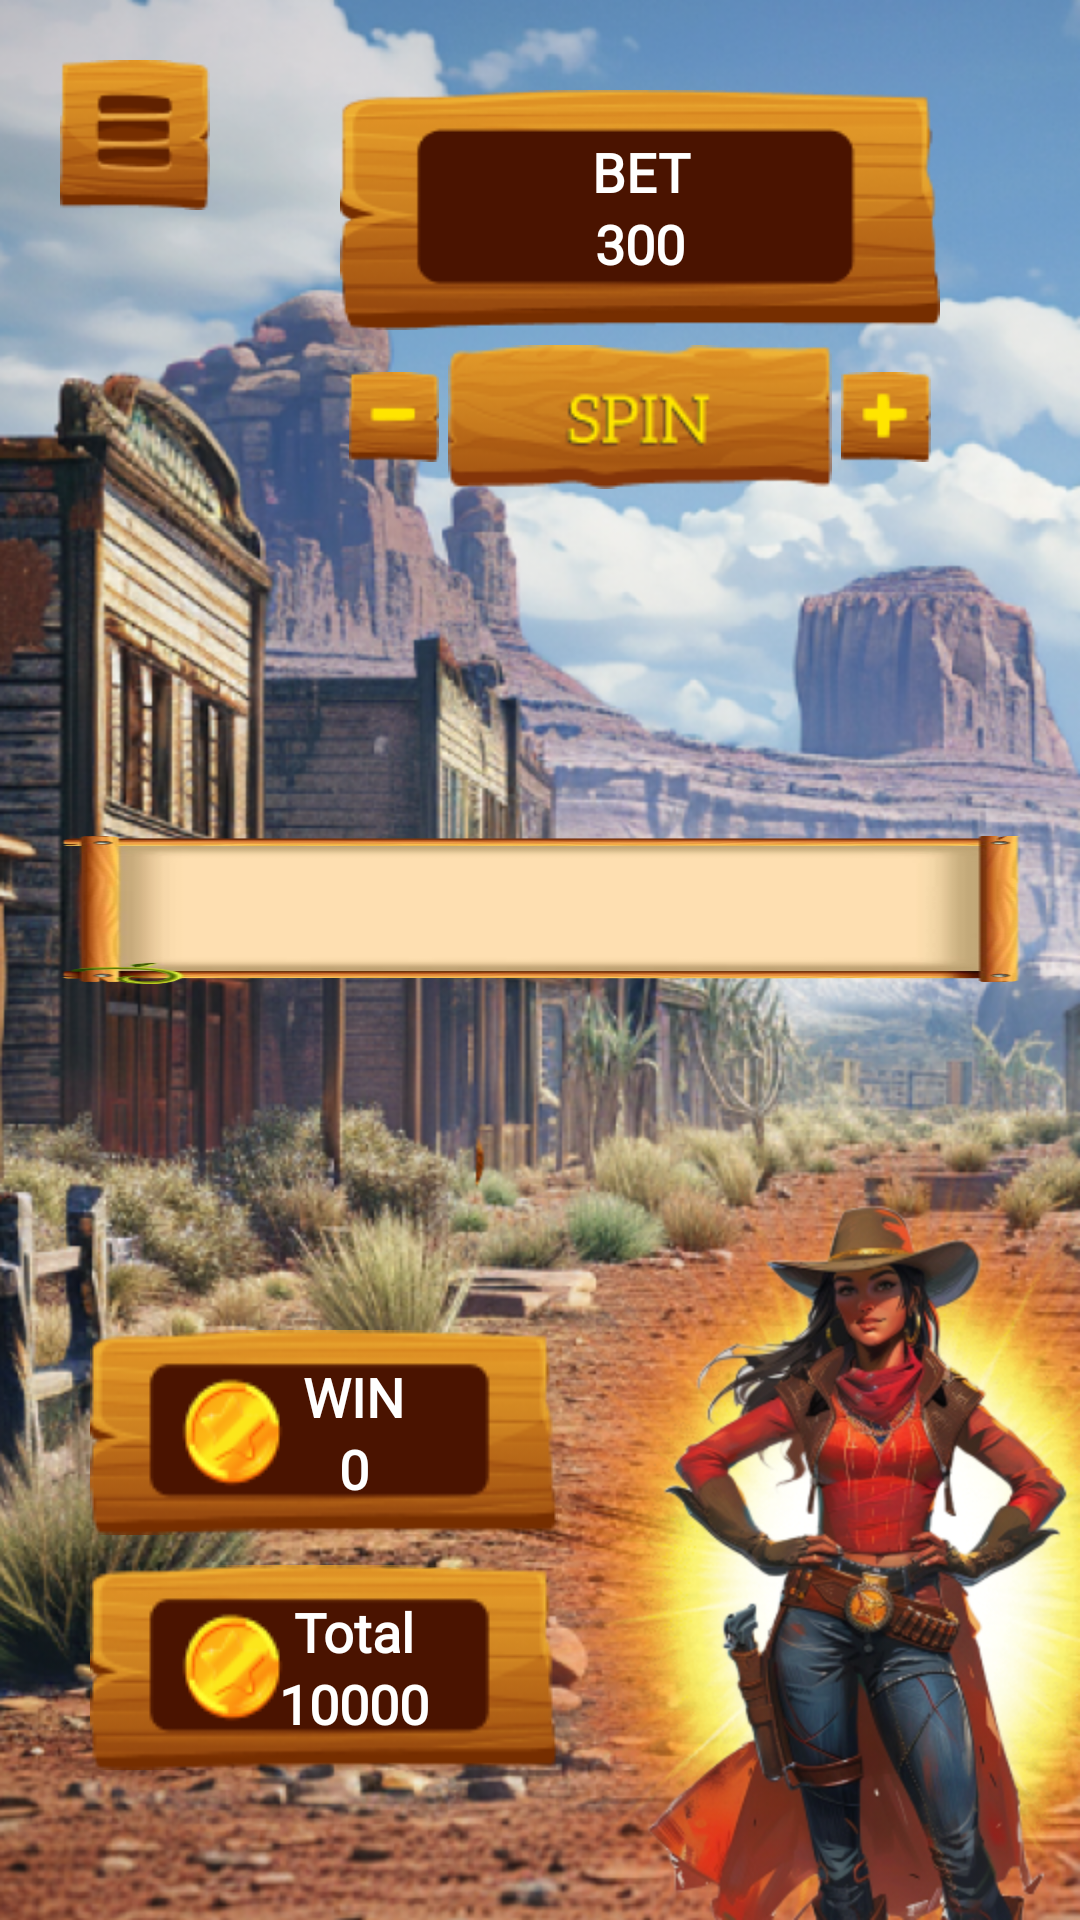

Where to tap for icons on this 1080*1920 app screen, as (x,y):
minus second bet: (394,417)
plus second bet: (886,417)
